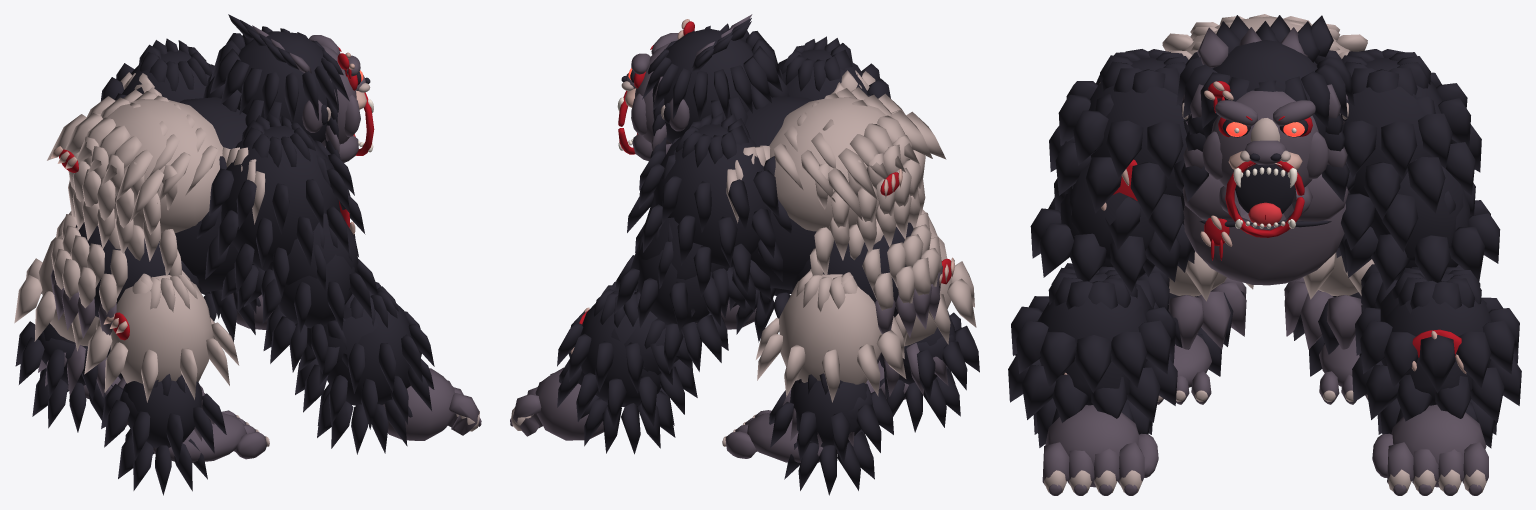
The picture shows the model from 3 angles, left to right: view 1: azimuth 30°, elevation 25°; view 2: azimuth 150°, elevation 25°; view 3: azimuth 270°, elevation 25°; orthographic projection. The views are drawn at different scales.
Parts seen in each view (by area): view 1: armR__pal_uiDark, torso__pal_sidewalk, foreArmR__pal_uiDark, legR__pal_sidewalk, head__pal_uiDark, shinR__pal_uiDark, shinL__pal_uiDark, armL__pal_uiDark, torso__pal_uiDark, handR__pal_asphalt, head__pal_asphalt, legL__pal_sidewalk (+8 smaller); view 2: armL__pal_uiDark, torso__pal_sidewalk, foreArmL__pal_uiDark, legL__pal_sidewalk, head__pal_uiDark, shinL__pal_uiDark, shinR__pal_uiDark, armR__pal_uiDark, torso__pal_uiDark, head__pal_asphalt, handL__pal_asphalt, legR__pal_sidewalk (+8 smaller); view 3: armL__pal_uiDark, armR__pal_uiDark, foreArmR__pal_uiDark, foreArmL__pal_uiDark, head__pal_uiDark, head__pal_asphalt, torso__pal_asphalt, handR__pal_asphalt, handL__pal_asphalt, legR__pal_asphalt, legL__pal_asphalt, torso__pal_sidewalk (+14 smaller).
Boxes of the visible parts, x1,y1,x2,y2 form: armR__pal_uiDark: (196,114,377,373); torso__pal_sidewalk: (47,89,223,298); foreArmR__pal_uiDark: (295,282,434,454); legR__pal_sidewalk: (84,270,239,402); head__pal_uiDark: (203,14,370,159); shinR__pal_uiDark: (101,374,226,495); shinL__pal_uiDark: (15,321,122,432); armL__pal_uiDark: (100,38,214,102); torso__pal_uiDark: (159,97,253,292); handR__pal_asphalt: (382,368,481,440); head__pal_asphalt: (252,25,365,162); legL__pal_sidewalk: (14,211,99,351); armL__pal_uiDark: (615,112,791,373); torso__pal_sidewalk: (769,87,946,299); foreArmL__pal_uiDark: (557,281,697,454); legL__pal_sidewalk: (756,269,906,402); head__pal_uiDark: (621,18,789,158); shinL__pal_uiDark: (769,373,893,495); shinR__pal_uiDark: (879,310,979,432); armR__pal_uiDark: (778,36,890,100); torso__pal_uiDark: (745,96,816,290); head__pal_asphalt: (626,14,752,161); handL__pal_asphalt: (510,367,603,440); legR__pal_sidewalk: (895,209,976,346); armL__pal_uiDark: (1336,49,1500,311); armR__pal_uiDark: (1030,49,1194,311); foreArmR__pal_uiDark: (1008,266,1177,447); foreArmL__pal_uiDark: (1352,267,1521,448); head__pal_uiDark: (1176,15,1354,213); head__pal_asphalt: (1182,27,1348,223); torso__pal_asphalt: (1182,174,1348,285); handR__pal_asphalt: (1042,405,1158,495); handL__pal_asphalt: (1372,404,1488,495); legR__pal_asphalt: (1168,277,1246,349); legL__pal_asphalt: (1284,277,1362,349); torso__pal_sidewalk: (1162,14,1367,59).
Size of what is drawn, in the model's own units: 1.94 by 2.16 by 2.33.
